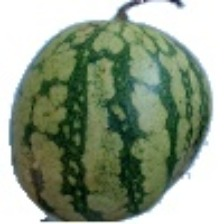watermelon: (29, 20, 221, 213)
